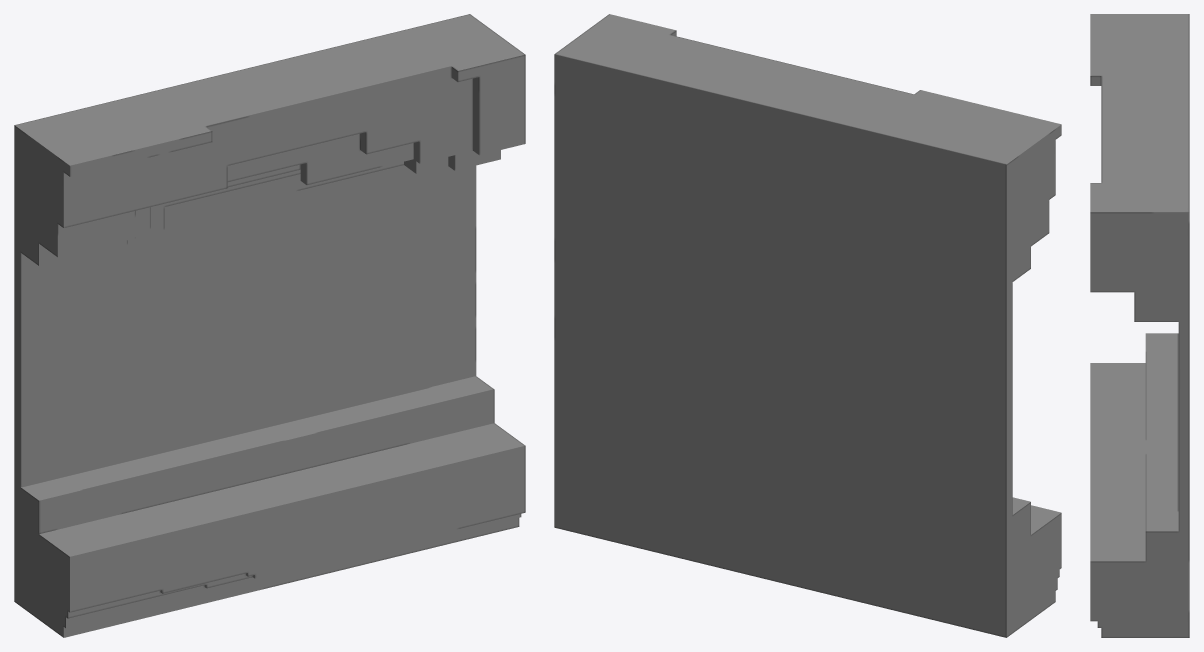
The model's file is WallEntranceTopLeft.fbx.
The picture shows the model from 3 angles, left to right: view 1: azimuth 30°, elevation 25°; view 2: azimuth 150°, elevation 25°; view 3: azimuth 270°, elevation 25°; orthographic projection. The views are drawn at different scales.
Visible parts, largest first — view 1: WallEntranceTopLeft.001; view 2: WallEntranceTopLeft.001; view 3: WallEntranceTopLeft.001.
Boxes of the visible parts, <box> form: WallEntranceTopLeft.001: <box>14,14,525,637</box>; WallEntranceTopLeft.001: <box>554,14,1061,637</box>; WallEntranceTopLeft.001: <box>1090,14,1189,637</box>.
Bounding box in the file's own units: 12.8 × 12.8 × 2.7.
1 material, 1 textured.
